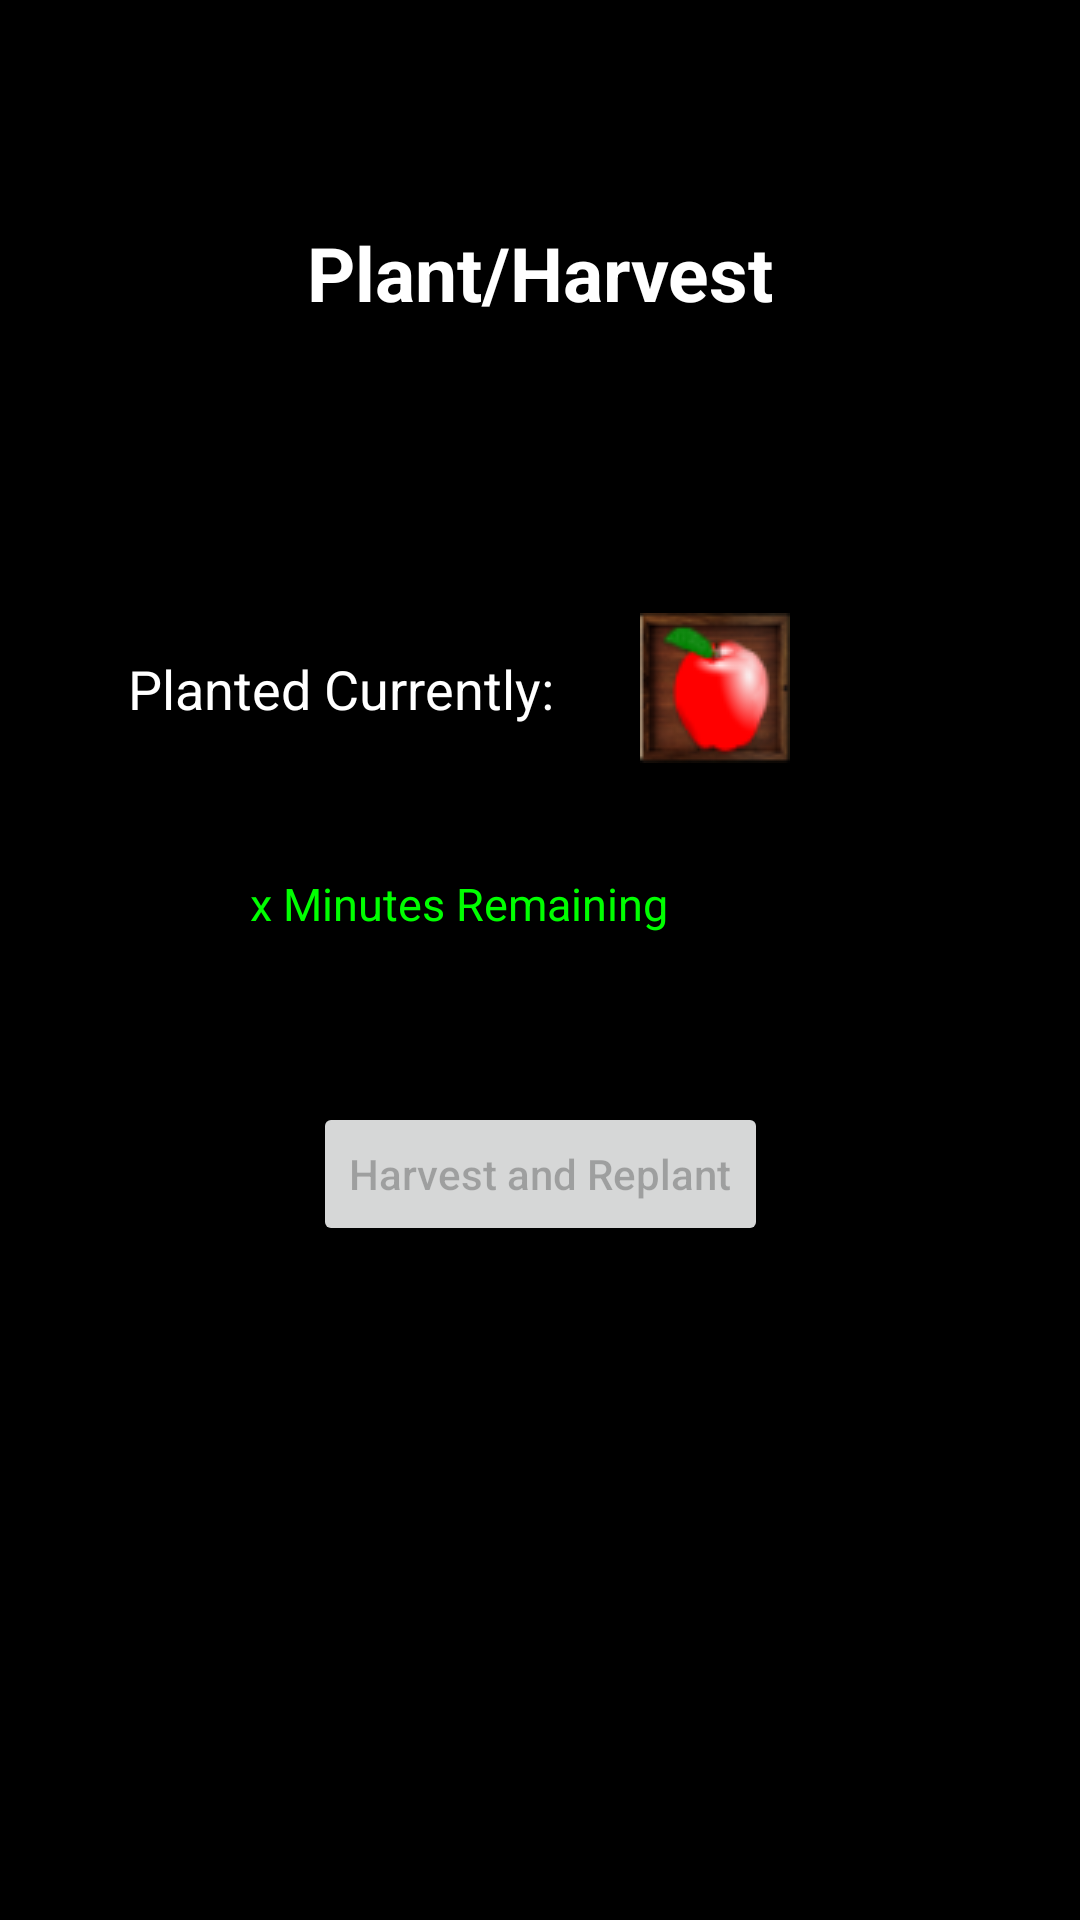

Icon click points for this 1080 x 1920 phone screenshot, format point (x, y):
apple: point (715, 687)
